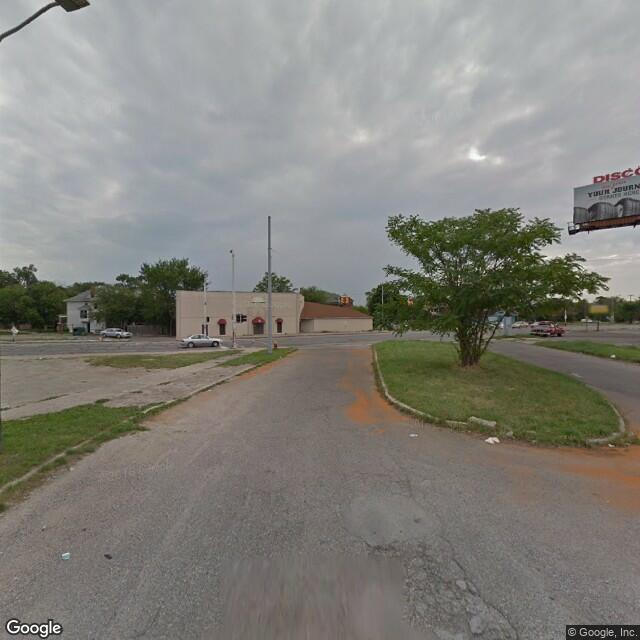litter: (481, 427, 504, 448), (404, 426, 421, 444), (54, 547, 74, 561), (600, 437, 617, 453), (607, 348, 620, 363)
